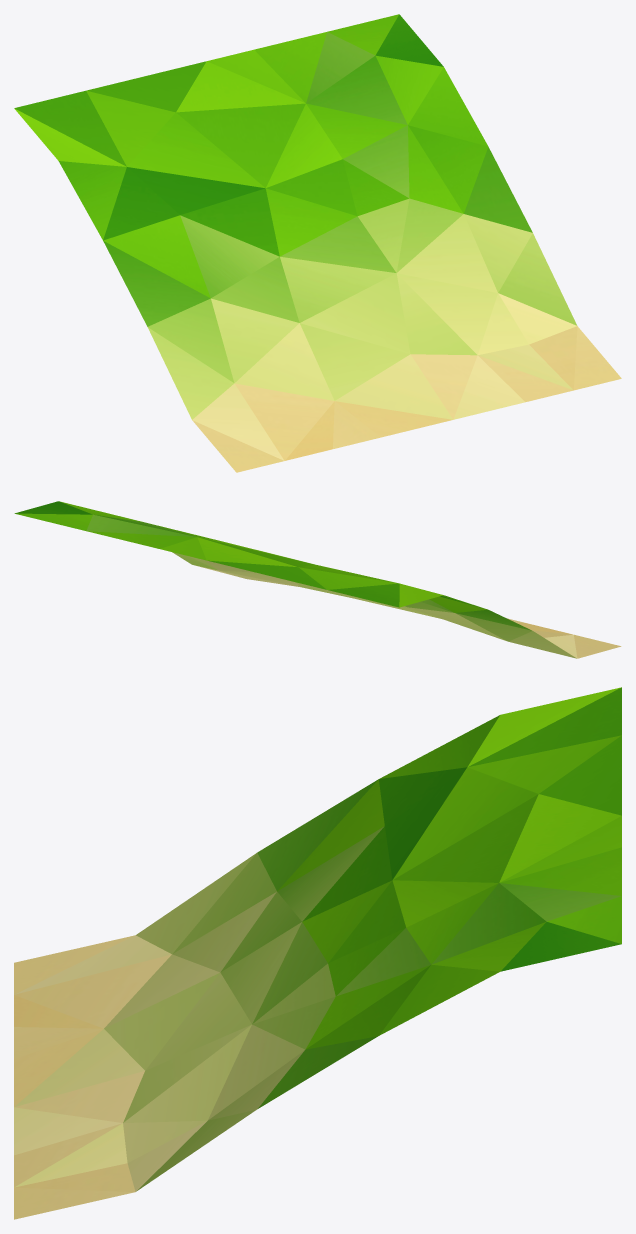
File: GL-Terrain-part-06-LOD2.fbx
3 views of the same model, one above another, from view 1: azimuth 30°, elevation 25°; view 2: azimuth 150°, elevation 25°; view 3: azimuth 270°, elevation 25° (orthographic). The views are drawn at different scales.
Parts seen in each view (by area): view 1: GL_Terrain_part_06; view 2: GL_Terrain_part_06; view 3: GL_Terrain_part_06.
Boxes of the visible parts, bbox=[...] form: GL_Terrain_part_06: bbox=[14, 14, 621, 472]; GL_Terrain_part_06: bbox=[14, 501, 621, 658]; GL_Terrain_part_06: bbox=[14, 687, 621, 1219].
Bounding box in the file's own units: 6 × 3 × 6.
